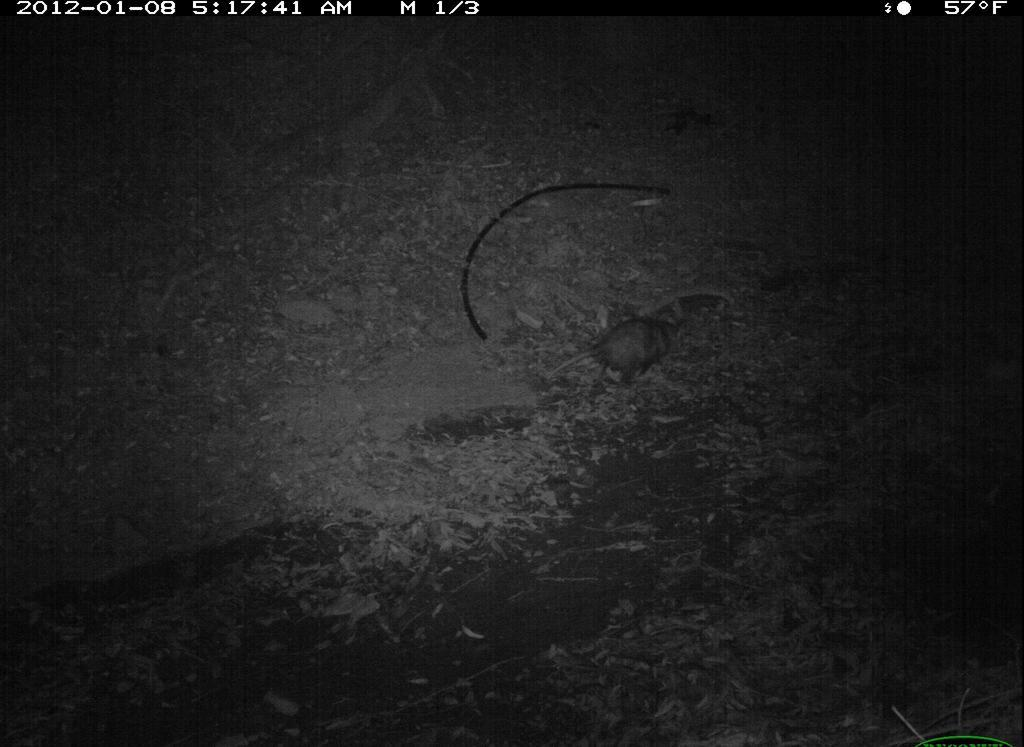opossum: (530, 315, 690, 400)
